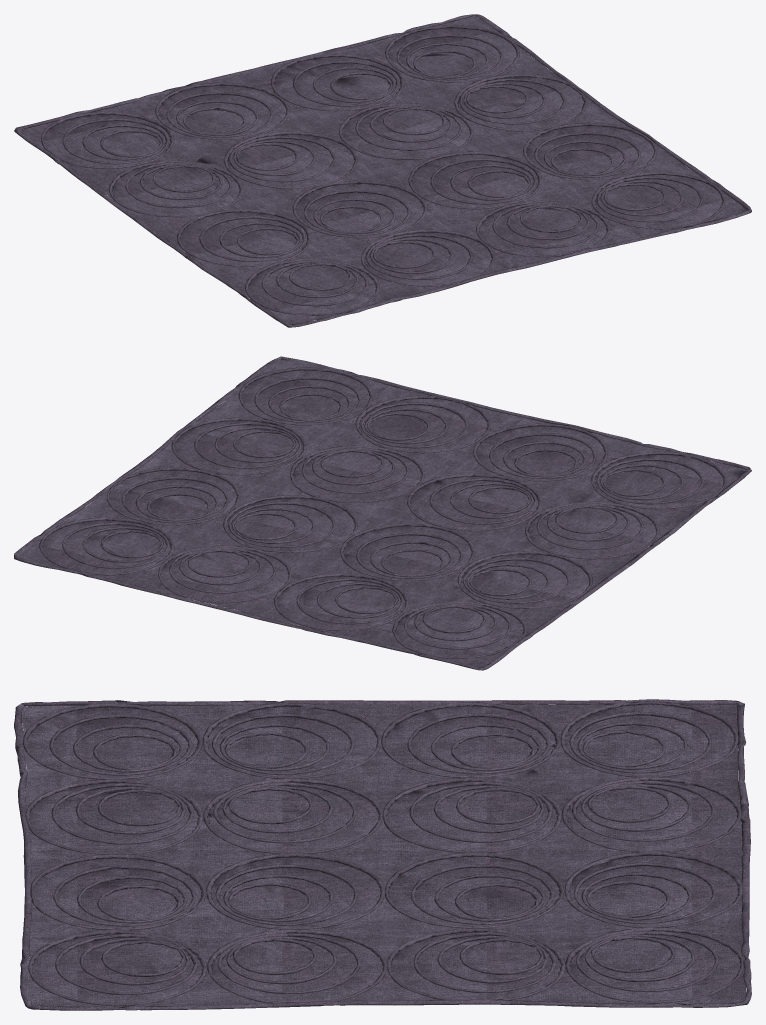
File: smallCarpet.glb
3 views of the same model, one above another, from view 1: azimuth 30°, elevation 25°; view 2: azimuth 150°, elevation 25°; view 3: azimuth 270°, elevation 25° (orthographic). The views are drawn at different scales.
Parts seen in each view (by area): view 1: kovior002; view 2: kovior002; view 3: kovior002.
Boxes of the visible parts, <box> form: kovior002: <box>14,14,751,327</box>; kovior002: <box>14,356,751,670</box>; kovior002: <box>14,699,751,1010</box>.
Bounding box in the file's own units: 202 × 1.49 × 204.
1 material, 1 textured.
